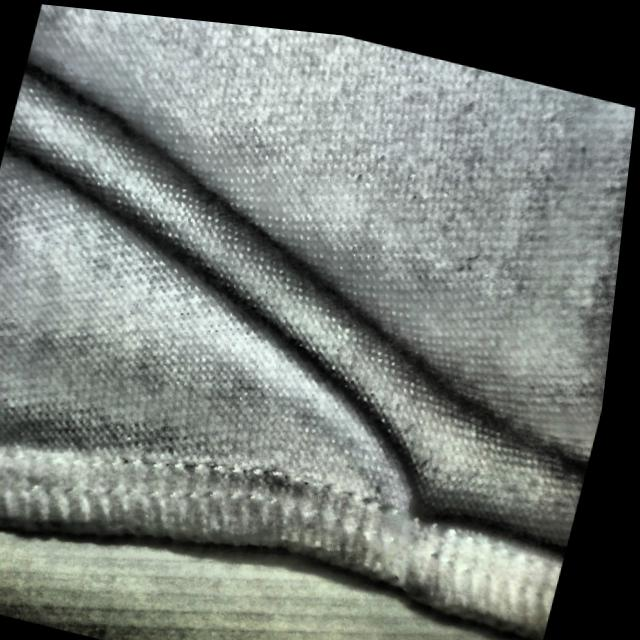seam: (318, 369, 557, 623)
